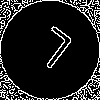L: (25, 25, 75, 78)
